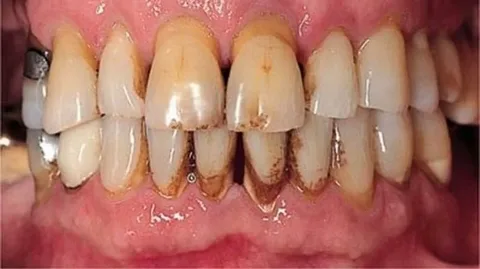LL1BC_decay: (374, 114, 416, 193)
LL2BC_decay: (416, 110, 450, 188)
LLCI_decay: (240, 131, 288, 215)
LLC_decay: (332, 122, 374, 200)
LLLI_decay: (290, 129, 331, 199)
LR1BC_decay: (58, 133, 99, 191)
LRCI_decay: (192, 130, 236, 205)
LRC_decay: (100, 117, 145, 194)
LRLI_decay: (144, 130, 189, 200)
UL1BC_healthy: (405, 23, 440, 114)
ULCI_decay: (227, 15, 306, 130)
ULC_healthy: (358, 15, 408, 112)
ULLI_decay: (303, 14, 358, 120)
URCI_healthy: (144, 19, 226, 130)
URC_healthy: (43, 20, 97, 134)
URLI_decay: (97, 20, 146, 118)
